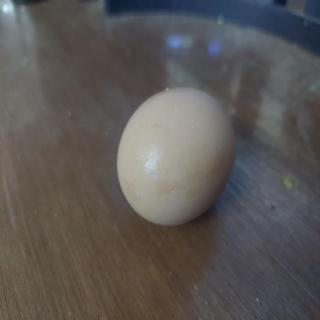Telur: (117, 84, 239, 230)
